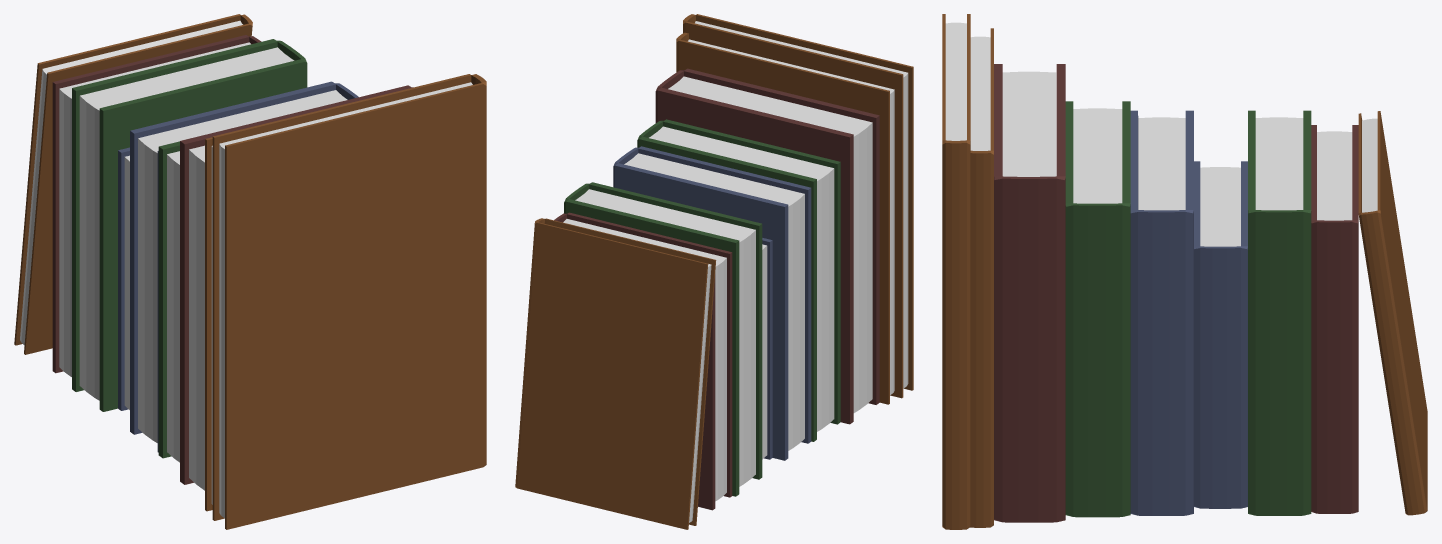
File: VJ_L_PackLlibres_01.fbx
3 views of the same model, side by side, from view 1: azimuth 30°, elevation 25°; view 2: azimuth 150°, elevation 25°; view 3: azimuth 270°, elevation 25° (orthographic). The views are drawn at different scales.
Visible parts, largest first — view 1: L_PackLlibres_01; view 2: L_PackLlibres_01; view 3: L_PackLlibres_01.
Part boxes in pixels (box(x1,y1,x2,y2)): L_PackLlibres_01: box(14, 14, 486, 529); L_PackLlibres_01: box(515, 14, 913, 529); L_PackLlibres_01: box(942, 14, 1427, 529).
Size of the model in its own units: 4.26 by 5.95 by 6.76.
